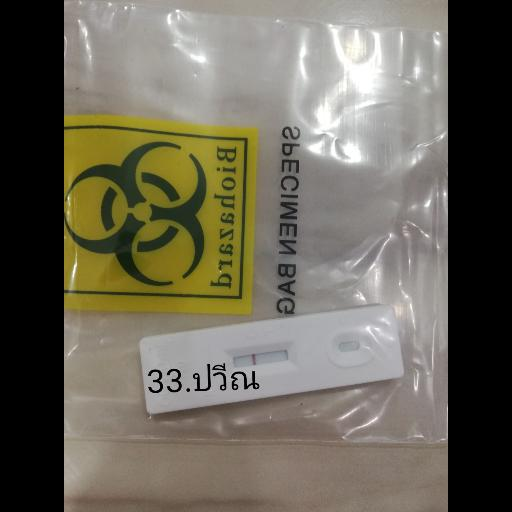Neg: (137, 303, 404, 416)
